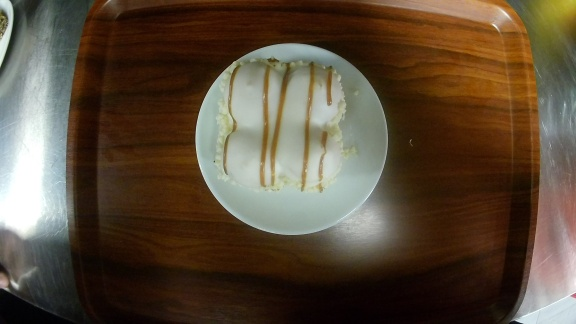beyazpasta: (194, 42, 389, 234)
